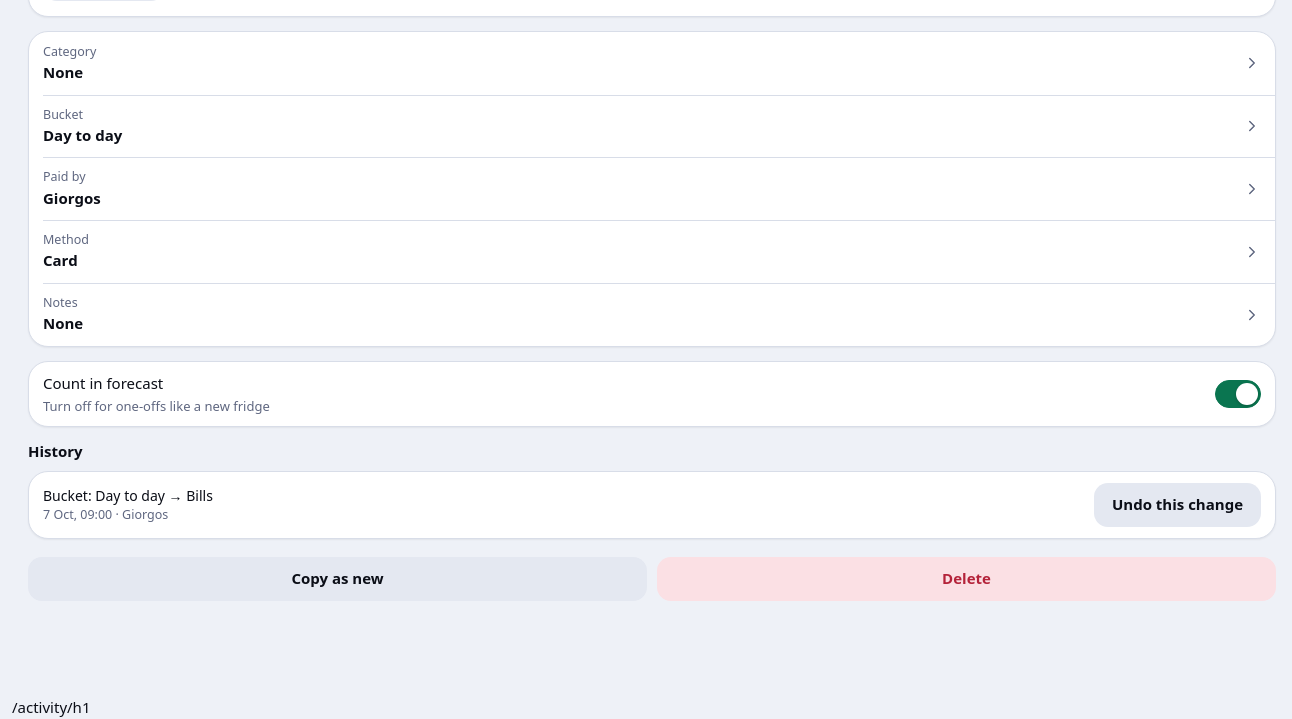
Test: undo › the detail history offers "Undo this change" for an undoable bulk event
(page scrolled)
Click the button "Undo this change" at (1178, 505), box [1094,483,1261,527]
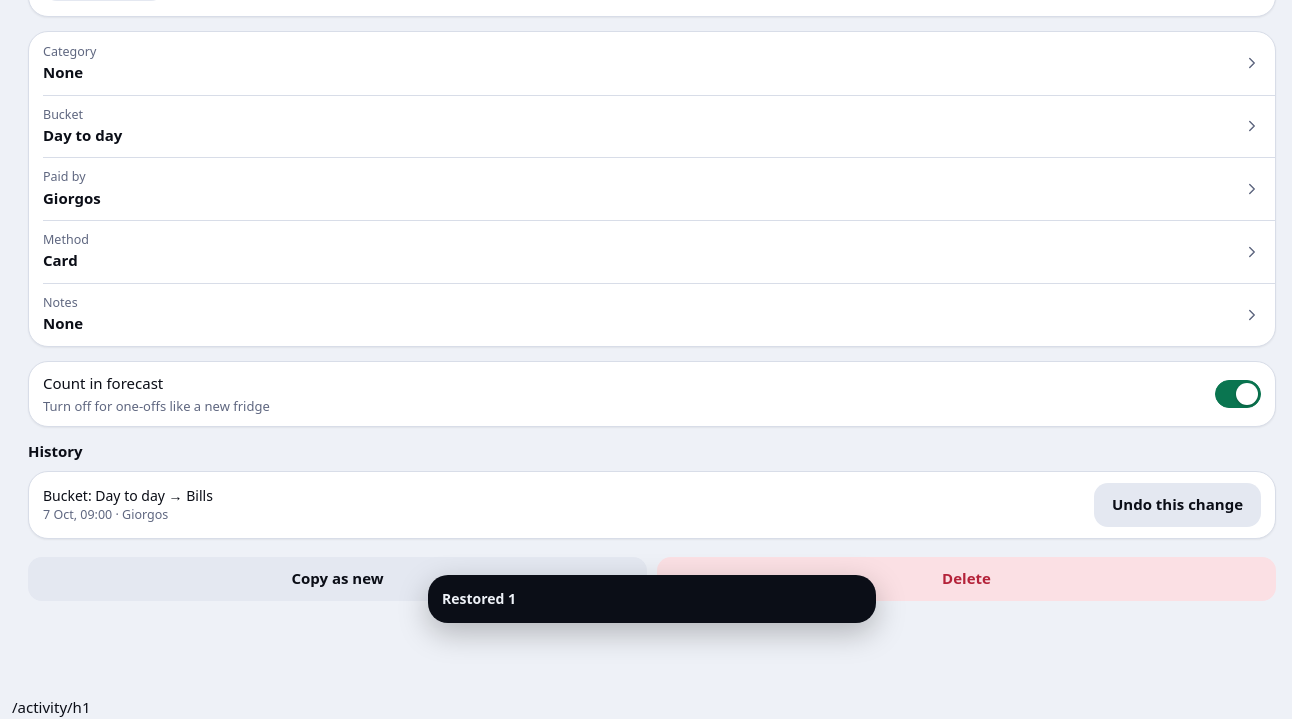
Check: the text "Restored 1" is shown, box [442,589,516,608]
